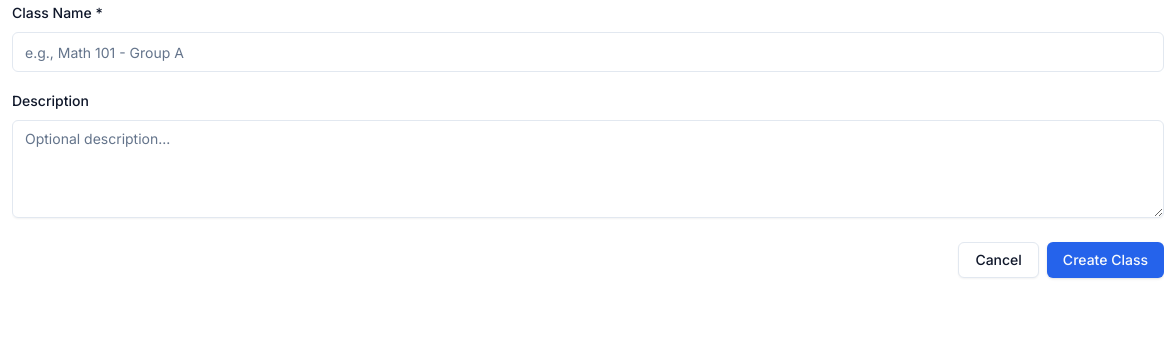
Test: CreateClassForm › shows validation error when name is too short
The image size is (1176, 356).
Type "A" into the field labelled "Class Name *".
click(588, 52); type("A")  # box top-left (12, 32), bottom-right (1164, 72)
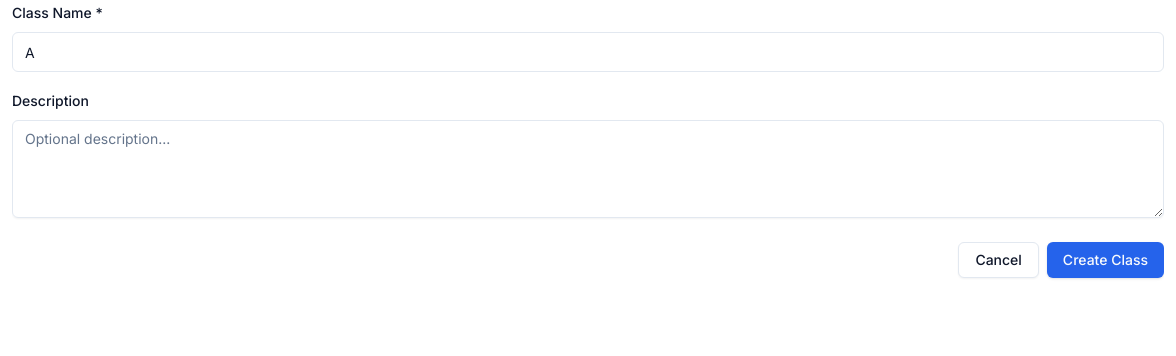
Click the button "Create Class".
click(1105, 260)  # box top-left (1047, 242), bottom-right (1164, 278)
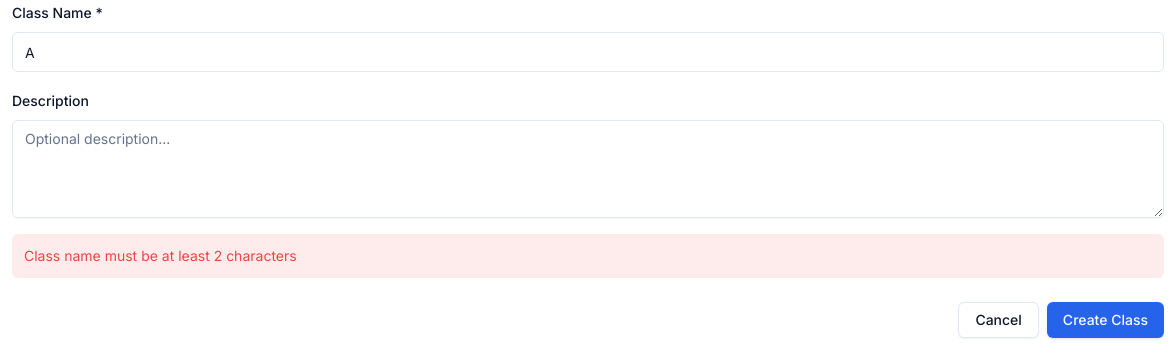
Expected: the text "Class name must be at least 2 characters" is shown, top-left (12, 234), bottom-right (1164, 278)
